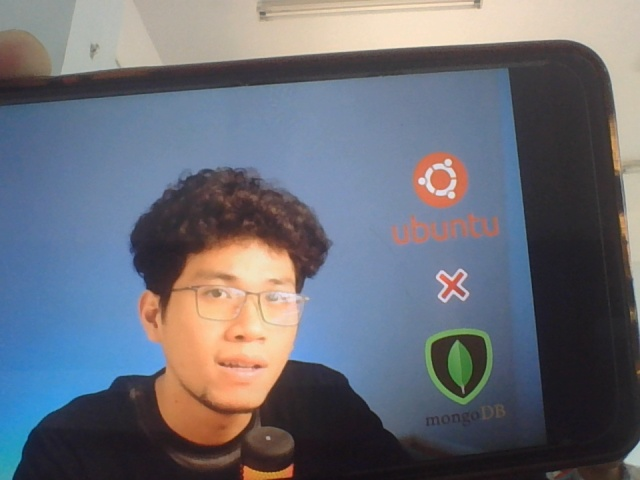fake: (143, 176, 312, 415)
